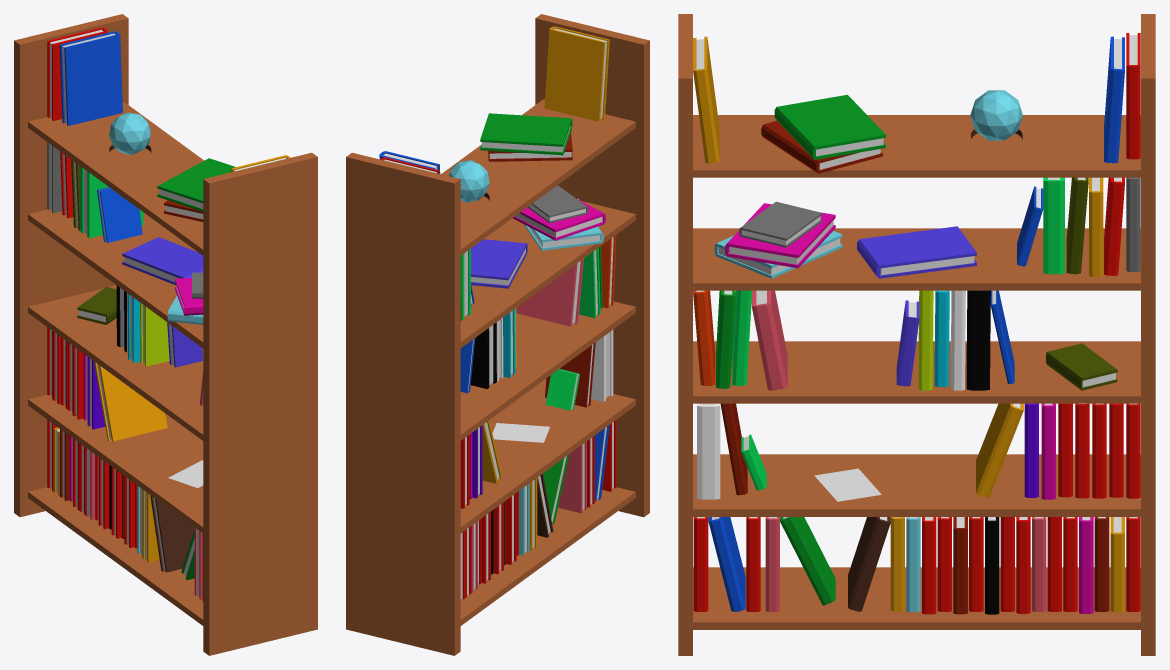
Rendered from libreria.fbx.
3 views of the same model, side by side, from view 1: azimuth 30°, elevation 25°; view 2: azimuth 150°, elevation 25°; view 3: azimuth 270°, elevation 25° (orthographic). The views are drawn at different scales.
Parts seen in each view (by area): view 1: Cube.019_20, Cube.019_0, Cube.019_4, Cube.019_5, Cube.019_7, Cube.019_15, Cube.019_8, Cube.019_2, Cube.019_3, Cube.019_14, Cube.019_17, Cube.019_6 (+7 smaller); view 2: Cube.019_20, Cube.019_0, Cube.019_7, Cube.019_4, Cube.019_6, Cube.019_3, Cube.019_1, Cube.019_8, Cube.019_15, Cube.019_9, Cube.019_5, Cube.019_12 (+7 smaller); view 3: Cube.019_20, Cube.019_4, Cube.019_7, Cube.019_3, Cube.019_0, Cube.019_5, Cube.019_9, Cube.019_6, Cube.019_15, Cube.019_11, Cube.019_1, Cube.019_8 (+9 smaller).
Part boxes in pixels (x1,y1,x2,y2): Cube.019_20: [14, 14, 317, 655]; Cube.019_0: [50, 29, 286, 596]; Cube.019_4: [47, 27, 203, 601]; Cube.019_5: [59, 31, 142, 242]; Cube.019_7: [53, 155, 290, 562]; Cube.019_15: [122, 237, 203, 367]; Cube.019_8: [109, 112, 203, 556]; Cube.019_2: [109, 145, 194, 572]; Cube.019_3: [157, 158, 235, 580]; Cube.019_14: [71, 159, 116, 324]; Cube.019_17: [140, 302, 169, 366]; Cube.019_6: [85, 372, 203, 599]; Cube.019_20: [346, 14, 649, 655]; Cube.019_0: [383, 27, 613, 599]; Cube.019_7: [482, 26, 609, 550]; Cube.019_4: [380, 157, 616, 598]; Cube.019_6: [471, 258, 586, 592]; Cube.019_3: [480, 113, 602, 523]; Cube.019_1: [460, 247, 600, 410]; Cube.019_8: [449, 160, 603, 555]; Cube.019_15: [471, 239, 527, 288]; Cube.019_9: [487, 133, 595, 565]; Cube.019_5: [379, 151, 609, 501]; Cube.019_12: [496, 318, 613, 401]; Cube.019_20: [678, 14, 1155, 655]; Cube.019_4: [693, 33, 1140, 614]; Cube.019_7: [693, 36, 1124, 611]; Cube.019_3: [716, 94, 885, 605]; Cube.019_0: [696, 35, 1137, 532]; Cube.019_5: [708, 36, 1124, 611]; Cube.019_9: [720, 120, 1109, 614]; Cube.019_6: [751, 290, 1046, 611]; Cube.019_15: [857, 226, 976, 386]; Cube.019_11: [725, 203, 1093, 613]; Cube.019_1: [732, 177, 1064, 490]; Cube.019_8: [714, 90, 1022, 611].
Size of the model in its own units: 49.48 by 206 by 154.
